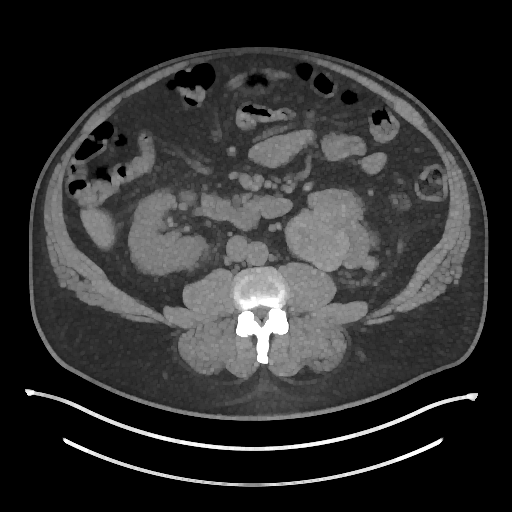Lesion: (284, 213, 353, 271)
